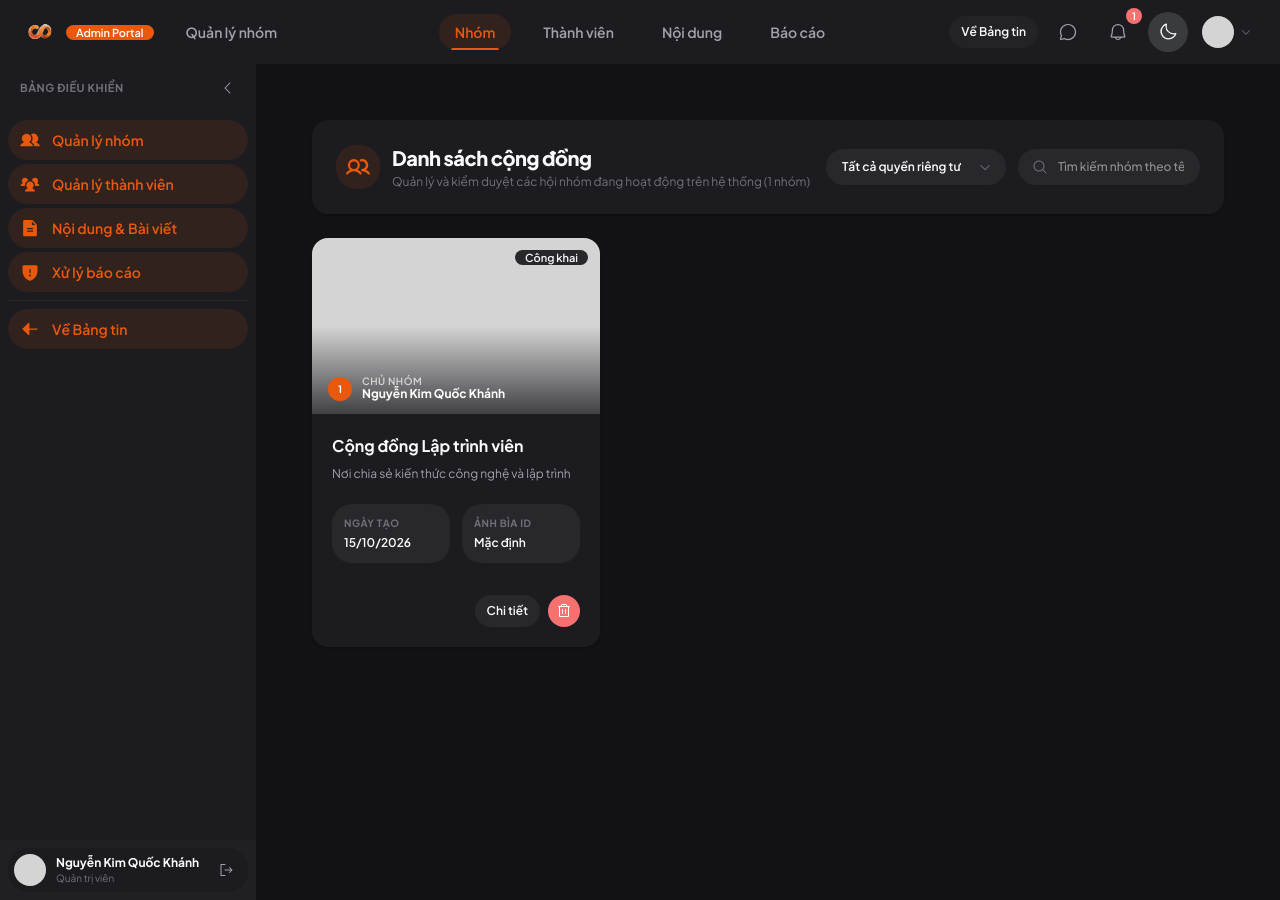
it: PR #24: Admin Portal Suite › <AdminGroupsManager /> › opens ConfirmDialog when clicking delete group button
The width and height of the screenshot is (1280, 900).
expect the heading "Cộng đồng Lập trình viên" is shown: met, box x1=332 y1=435 x2=524 y2=456
What coordinates should you click on to do the following:
click the button named "Xóa nhóm"
I would click on:
 (564, 610)
Its box is x1=548 y1=594 x2=580 y2=626.
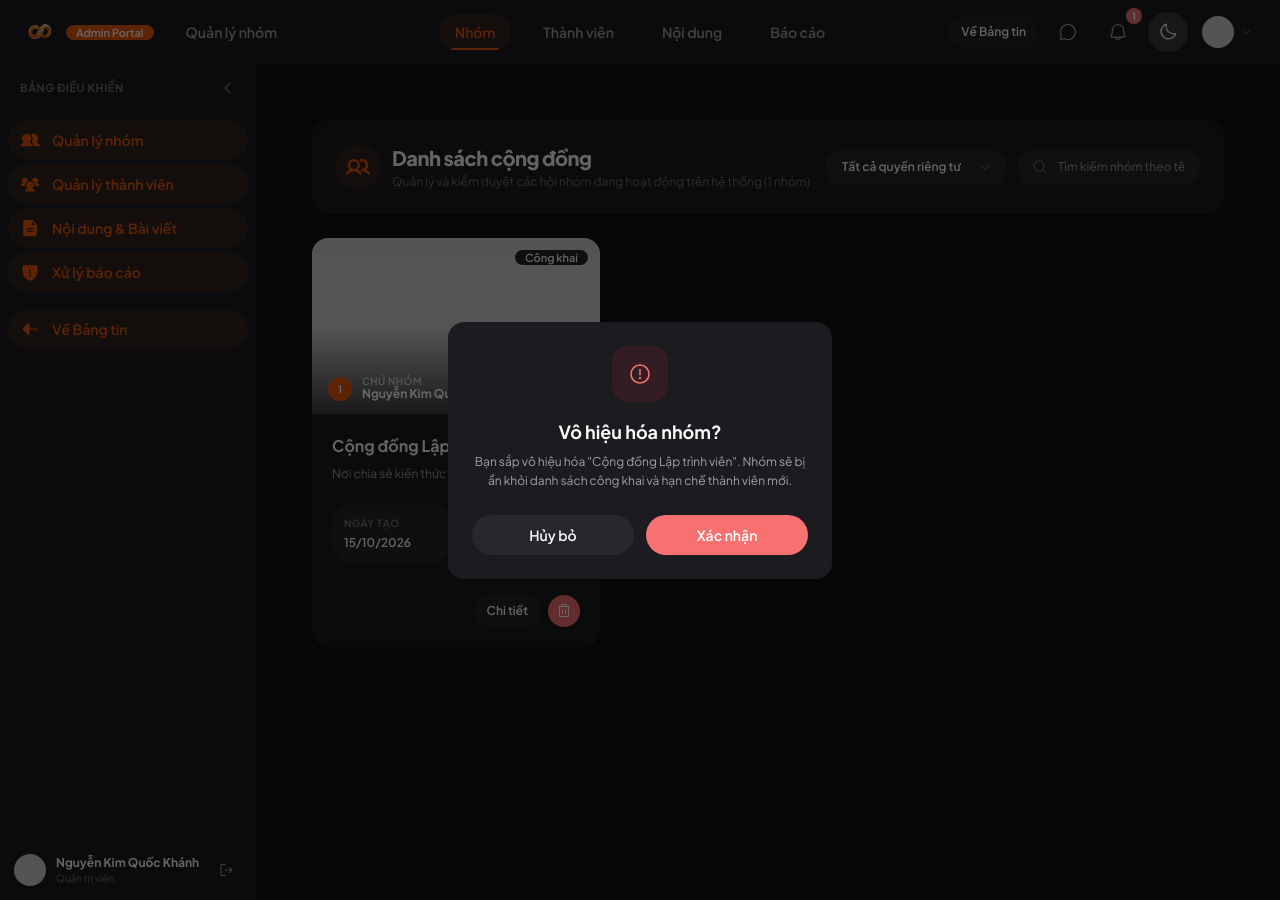
expect the heading "Vô hiệu hóa nhóm?" is shown: met, box x1=558 y1=420 x2=722 y2=442
expect the text "Bạn sắp vô hiệu hóa \"Cộng đồng Lập trình viên\"" is shown: met, box x1=475 y1=454 x2=805 y2=488
